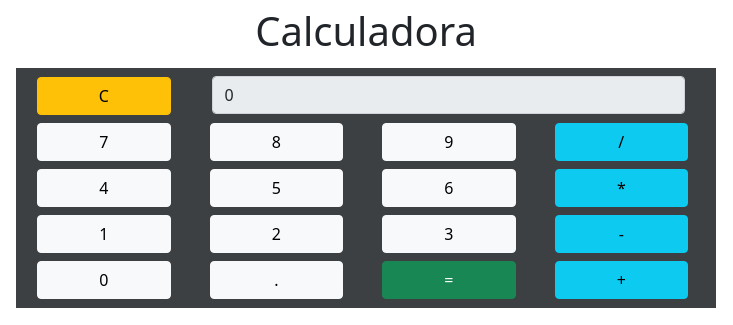
Calculadora › Deve limpar o campo de numeros
This screenshot has width=733, height=325.
Click the button "2" at (276, 234), box [210, 215, 343, 253]
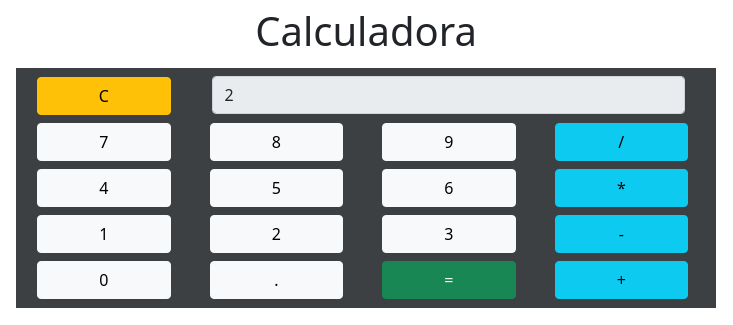
Click the button "C" at (104, 96), box [37, 77, 171, 115]
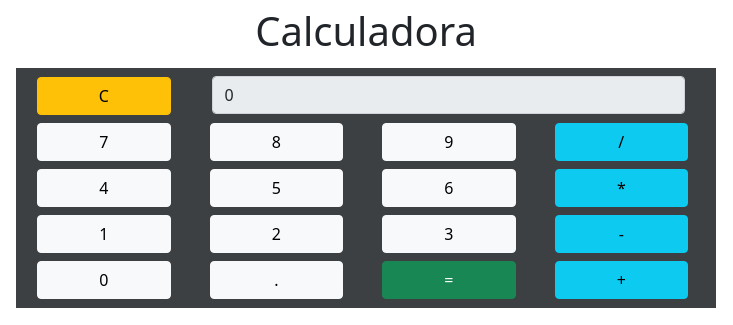
Now the field with test id "txtNumeros" holds "0", box [212, 76, 685, 114]
